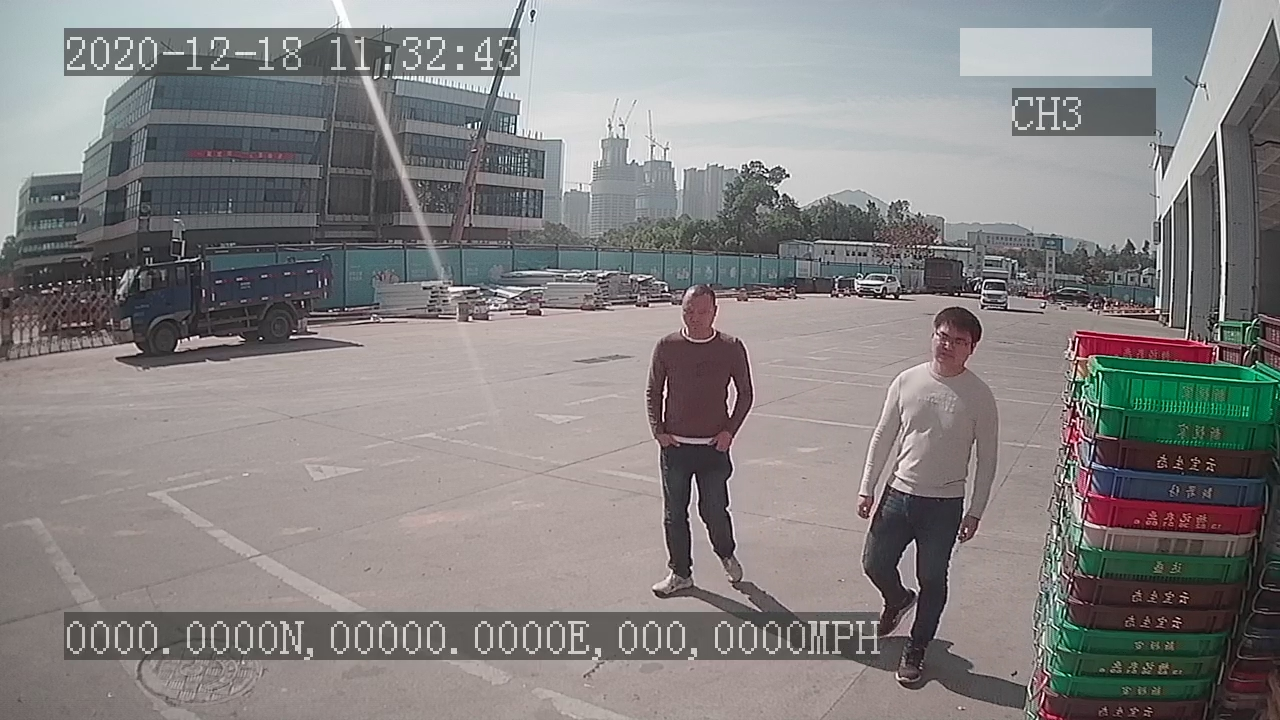person: (636, 277, 756, 595)
